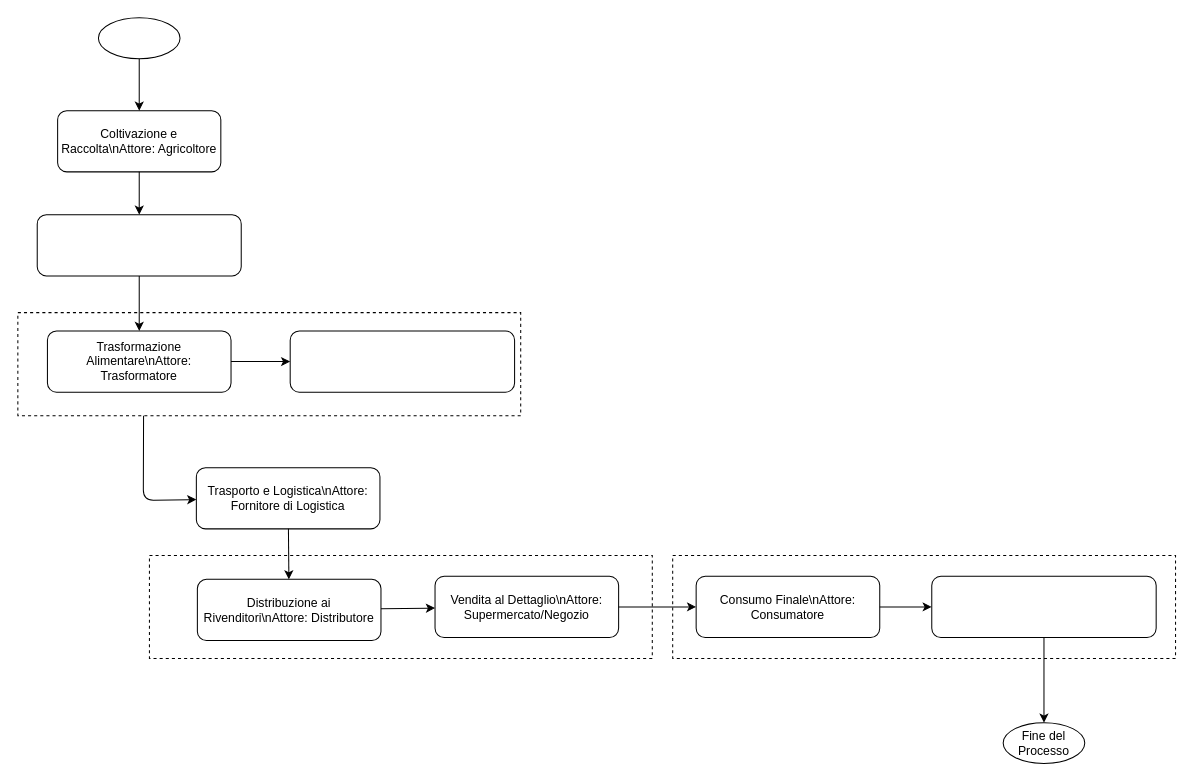
Image size: 1193x781. Some labels were removed from this diagram. The centre of each missing label's shape, as x and y in pixels:
"Gestione dei Rifiuti e Riciclaggio\nAttore: Servizio di Gestione dei Rifiuti" belongs at point (1043, 606).
"Inizio del Processo" belongs at point (138, 38).
"Stoccaggio e Gestione dell'Inventario\nAttore: Operatore Magazzino Refrigerato" belongs at point (402, 361).
"Trasporto dai Campi al Trasformatore\nAttore: Fornitore di Logistica" belongs at point (138, 245).
